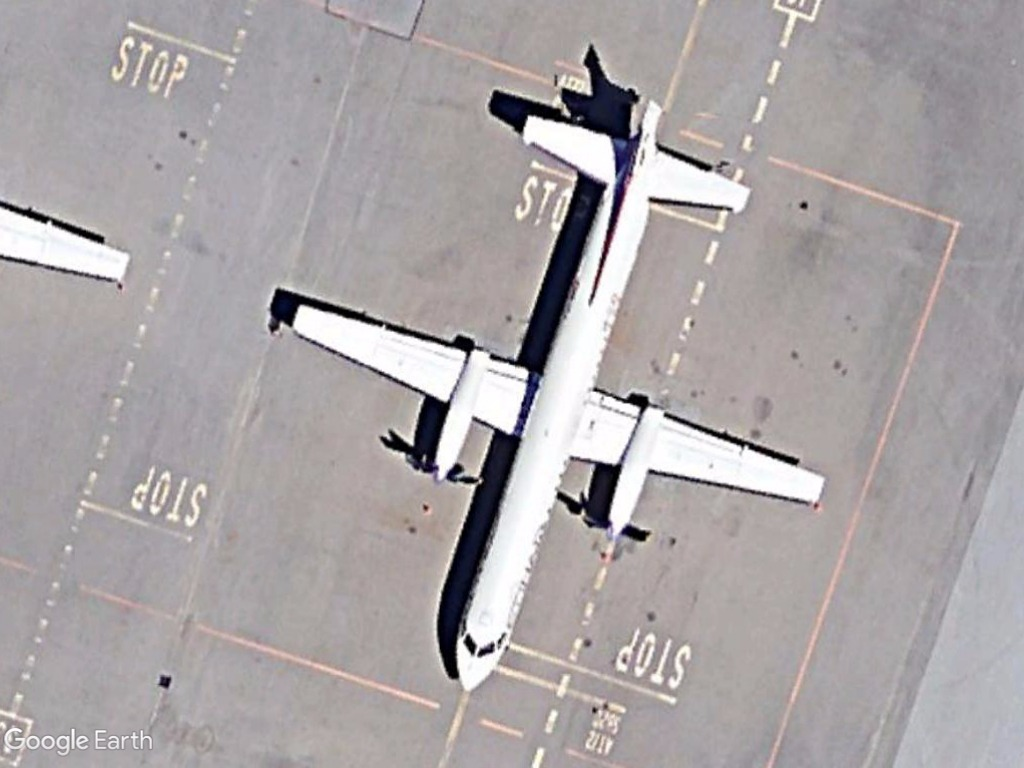propeller: (274, 68, 833, 705)
